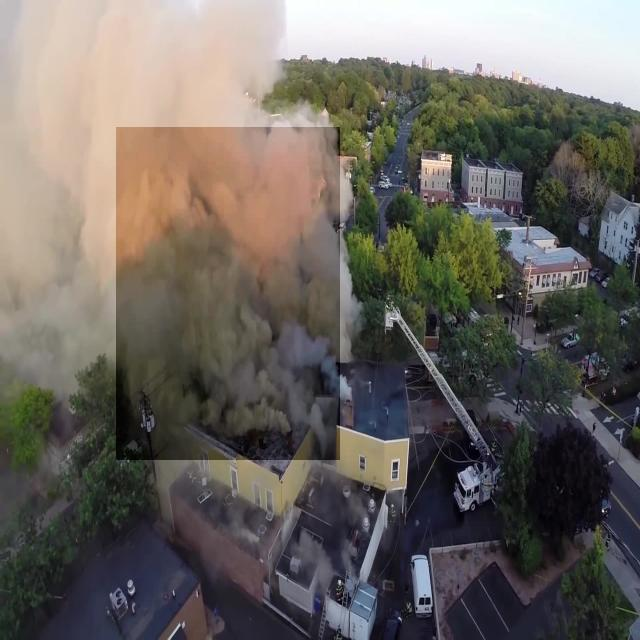Smoke: (116, 127, 340, 460)
